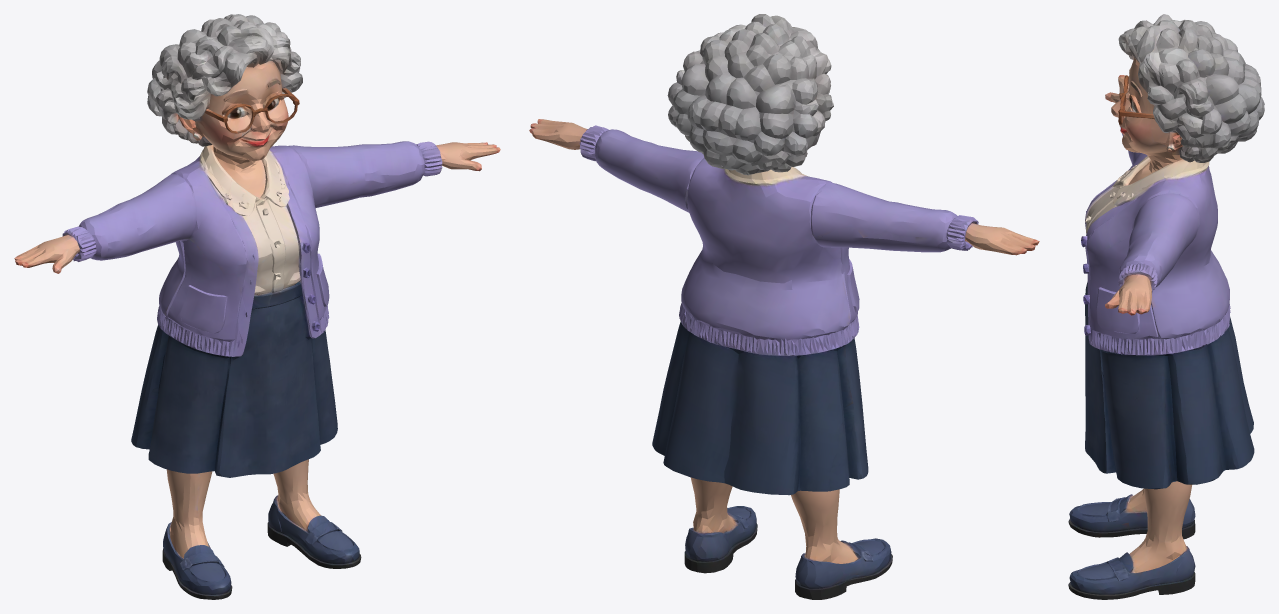
The model's file is shopperA.glb.
3 views of the same model, side by side, from view 1: azimuth 30°, elevation 25°; view 2: azimuth 150°, elevation 25°; view 3: azimuth 270°, elevation 25° (orthographic). The views are drawn at different scales.
Visible parts, largest first — view 1: model; view 2: model; view 3: model.
Boxes of the visible parts, box(x1,y1,x2,y2) form: model: box(14, 14, 500, 599); model: box(529, 14, 1039, 599); model: box(1068, 14, 1264, 599).
Size of the model in its own units: 1.81 by 1.9 by 0.6305.
1 material, 1 textured.
